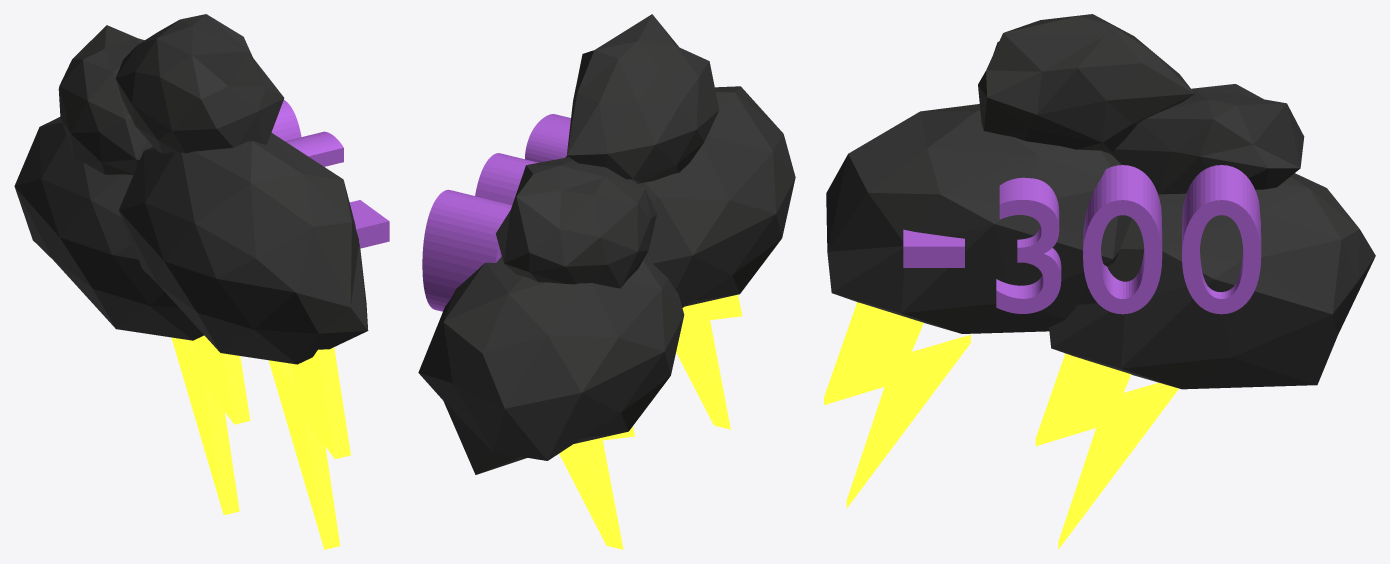
The picture shows the model from 3 angles, left to right: view 1: azimuth 30°, elevation 25°; view 2: azimuth 150°, elevation 25°; view 3: azimuth 270°, elevation 25°; orthographic projection. The views are drawn at different scales.
Visible parts, largest first — view 1: Icosphere.171, Icosphere.156, Text.070, Text.067, Text.068; view 2: Icosphere.171, Icosphere.156, Text.069, Text.068, Text.067; view 3: Icosphere.171, Icosphere.156, Text.068, Text.069, Text.067, Text.070.
Part boxes in pixels (left/top/right/bottom): Icosphere.171: left=14, top=14, right=368, bottom=424; Icosphere.156: left=171, top=335, right=350, bottom=549; Text.070: left=349, top=200, right=389, bottom=248; Text.067: left=285, top=131, right=343, bottom=166; Text.068: left=271, top=100, right=301, bottom=140; Icosphere.171: left=418, top=14, right=795, bottom=474; Icosphere.156: left=559, top=294, right=742, bottom=549; Text.069: left=422, top=189, right=512, bottom=311; Text.068: left=475, top=153, right=538, bottom=204; Text.067: left=525, top=114, right=570, bottom=162; Icosphere.171: left=826, top=14, right=1375, bottom=445; Icosphere.156: left=824, top=302, right=1178, bottom=549; Text.068: left=1083, top=165, right=1162, bottom=314; Text.069: left=1182, top=165, right=1261, bottom=314; Text.067: left=996, top=177, right=1061, bottom=313; Text.070: left=903, top=229, right=964, bottom=267.
Size of the model in its own units: 37.57 by 90.64 by 88.2.
